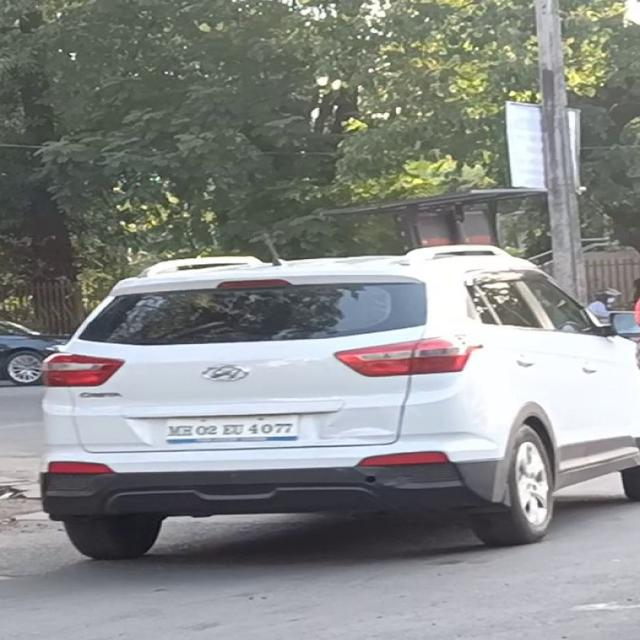plate: (162, 415, 300, 441)
